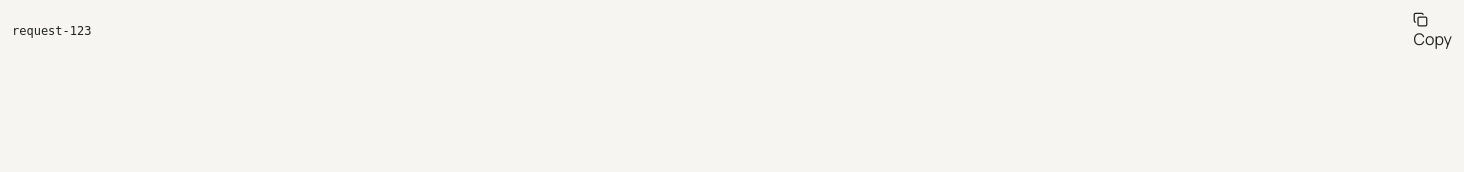
Test: keeps the value selectable and explains a denied clipboard request
Step 1. Click the button with aria-label "Copy request reference" → {"x": 1433, "y": 32}, box [1414,12,1452,51]
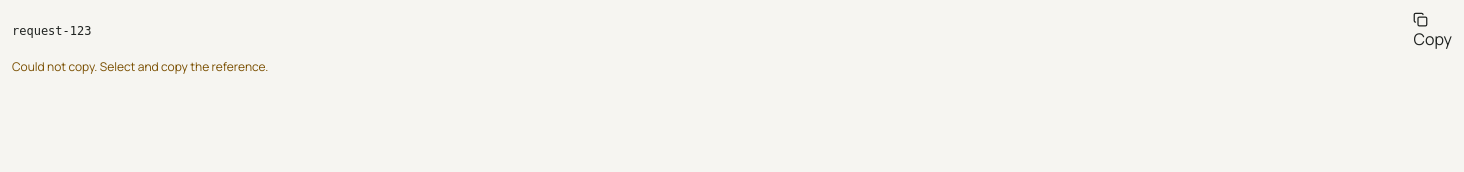
Expected: the text "request-123" is shown, [12,24,92,38]
Result: the message reads "Could not copy. Select and copy the reference." at [12,58,268,75]
